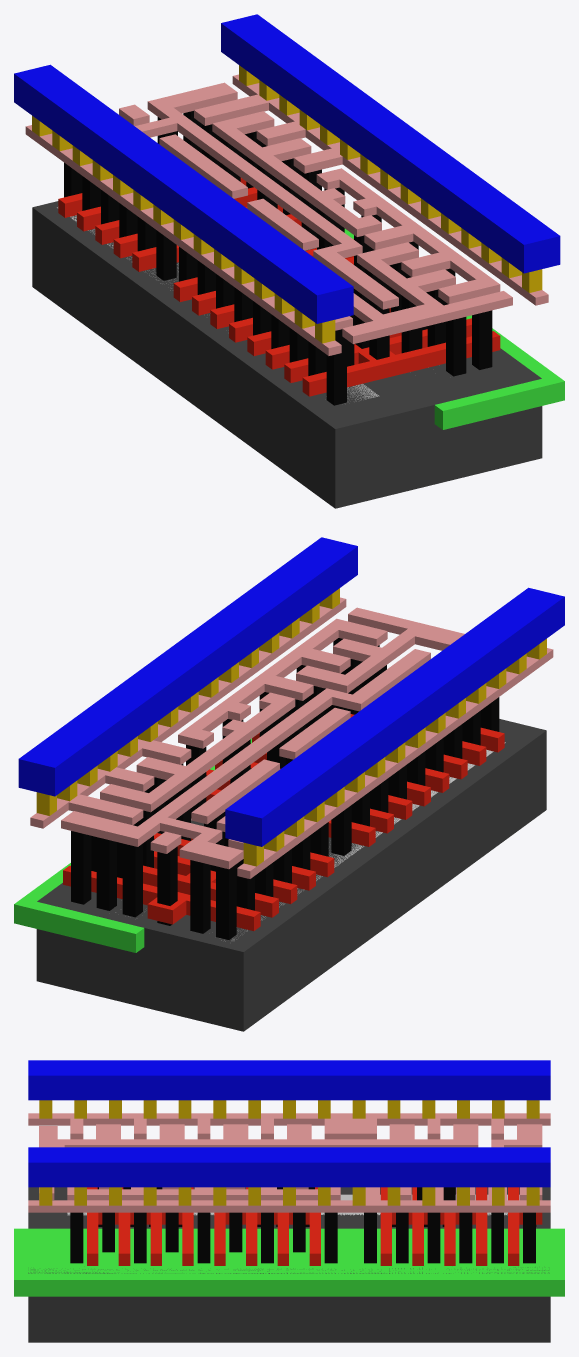
The model's file is sky130_fd_sc_hd__nor3b_4.obj.
The picture shows the model from 3 angles, top to bottom: view 1: azimuth 30°, elevation 25°; view 2: azimuth 150°, elevation 25°; view 3: azimuth 270°, elevation 25°; orthographic projection. The views are drawn at different scales.
Parts seen in each view (by area): view 1: subs, metal1, li, licon, poly, mcon, nwell; view 2: subs, metal1, li, licon, poly, mcon, nwell; view 3: metal1, subs, nwell, li, licon, poly, mcon.
Part boxes in pixels (x1,y1,x2,y2): subs: (32,201,542,508); metal1: (14,14,560,323); li: (25,74,548,355); licon: (64,111,492,405); poly: (58,177,500,396); mcon: (32,65,542,343); nwell: (344,228,564,429); subs: (36,719,546,1031); metal1: (18,537,564,846); li: (30,597,553,878); licon: (71,638,499,939); poly: (63,714,504,931); mcon: (36,588,546,866); nwell: (14,738,251,952); metal1: (28,1060,550,1187); subs: (28,1187,550,1342); nwell: (14,1228,564,1296); li: (28,1113,550,1212); licon: (70,1187,536,1263); poly: (87,1187,542,1265); mcon: (39,1100,539,1205).
Size of the model in its own units: 3.2 by 2.74 by 7.28.
